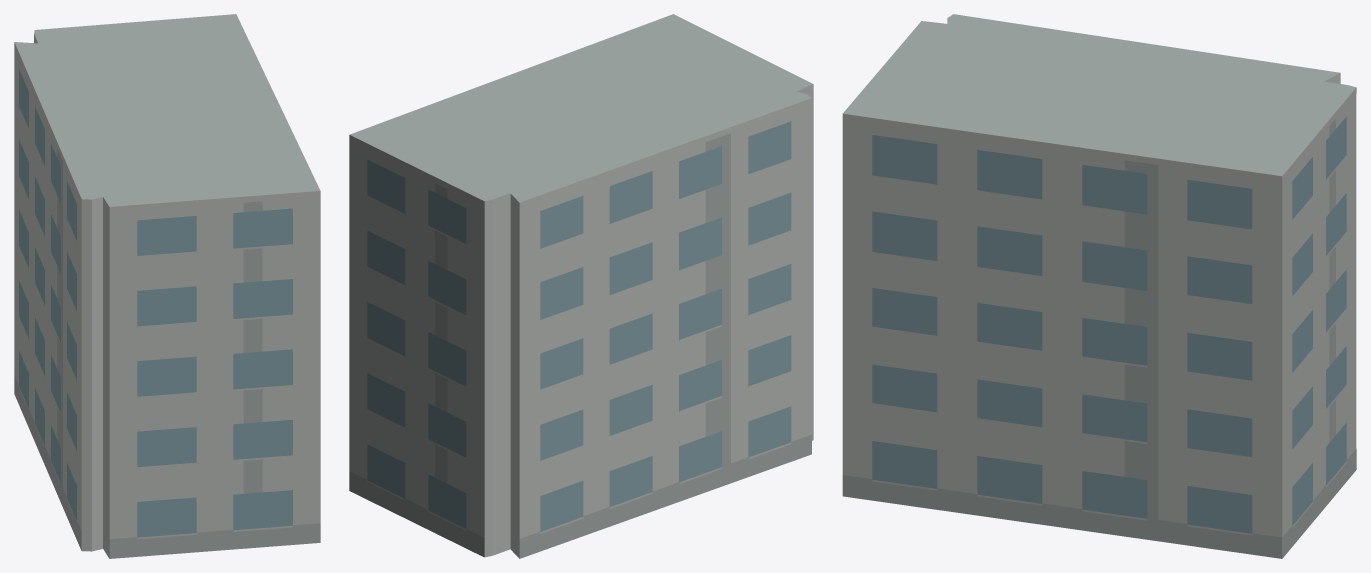
File: survey-upis-32893550.glb
3 renders of one model, left to right at view 1: azimuth 30°, elevation 25°; view 2: azimuth 150°, elevation 25°; view 3: azimuth 270°, elevation 25°, orthographic. The views are drawn at different scales.
Visible parts, largest first — view 1: survey-upis-32893550.tmp; view 2: survey-upis-32893550.tmp; view 3: survey-upis-32893550.tmp.
Part boxes in pixels (bbox=[...]): survey-upis-32893550.tmp: bbox=[14, 14, 320, 558]; survey-upis-32893550.tmp: bbox=[349, 14, 813, 558]; survey-upis-32893550.tmp: bbox=[842, 14, 1356, 558].
Size of the model in its own units: 13.01 by 14.3 by 17.41.
